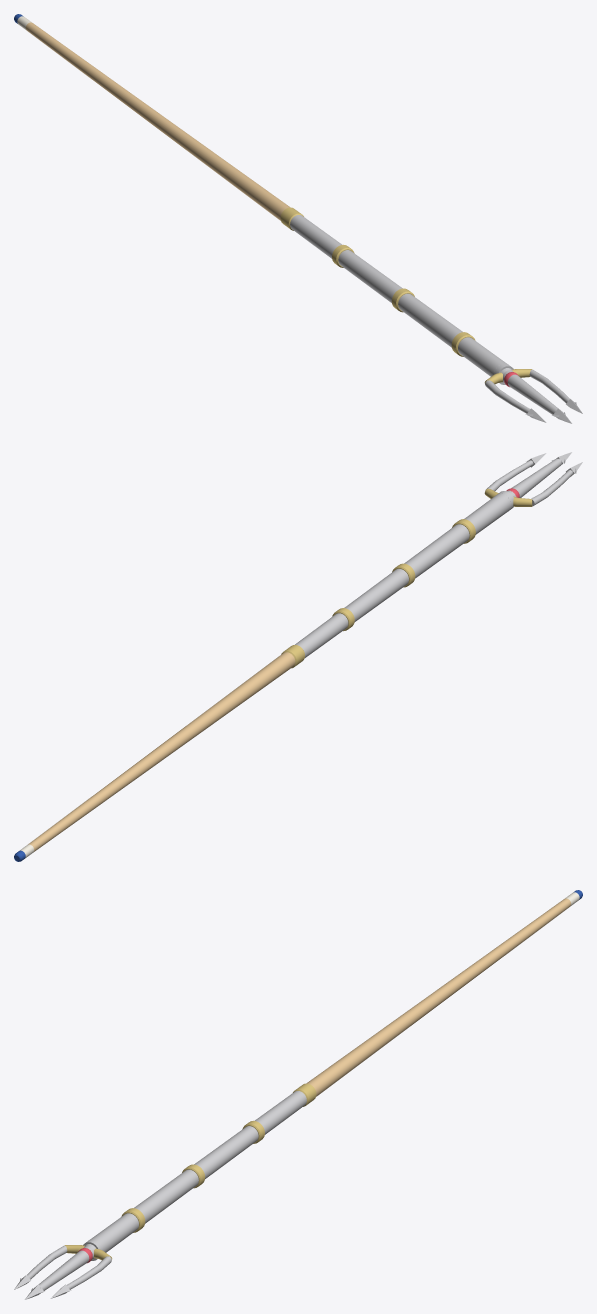
File: cue_trident.glb
3 renders of one model, top to bottom at view 1: azimuth 30°, elevation 25°; view 2: azimuth 150°, elevation 25°; view 3: azimuth 330°, elevation 25°, orthographic.
Visible parts, largest first — view 1: grip, shaft, prong, metal; view 2: grip, shaft, prong, metal; view 3: grip, shaft, prong, metal.
Part boxes in pixels (x1,y1,x2,y2): grip: (290,215,513,384); shaft: (25,22,290,220); prong: (485,365,582,423); metal: (280,207,532,384); grip: (295,491,513,657); shaft: (28,652,295,852); prong: (485,452,582,506); metal: (281,488,532,668); grip: (83,1091,306,1260); shaft: (306,898,571,1096); prong: (14,1241,111,1299); metal: (64,1083,316,1260).
Bounding box in the file's own units: 0.0816 × 0.0311 × 1.48.
